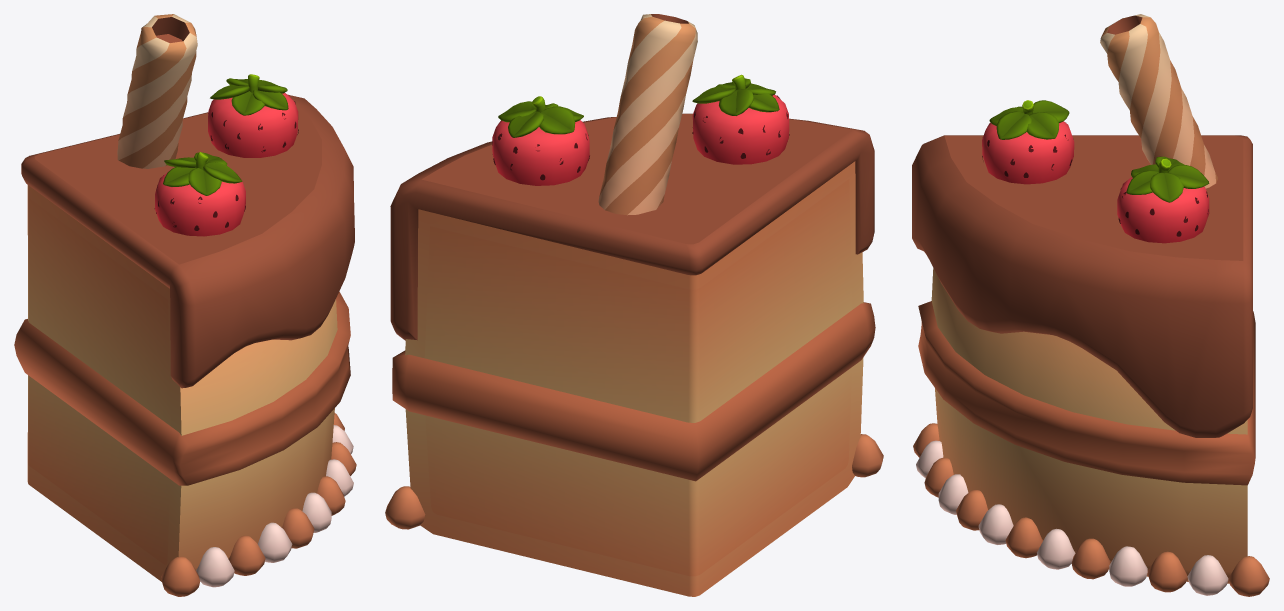
File: Cake_Chocolate_Slice_V3_00.fbx
3 views of the same model, side by side, from view 1: azimuth 30°, elevation 25°; view 2: azimuth 150°, elevation 25°; view 3: azimuth 270°, elevation 25° (orthographic). The views are drawn at different scales.
Visible parts, largest first — view 1: Cake_Chocolate_Slice_V3_00; view 2: Cake_Chocolate_Slice_V3_00; view 3: Cake_Chocolate_Slice_V3_00.
Boxes of the visible parts, <box> form: Cake_Chocolate_Slice_V3_00: <box>14,14,356,596</box>; Cake_Chocolate_Slice_V3_00: <box>385,14,883,596</box>; Cake_Chocolate_Slice_V3_00: <box>912,14,1269,596</box>.
Bounding box in the file's own units: 34.82 × 52.45 × 35.03.
